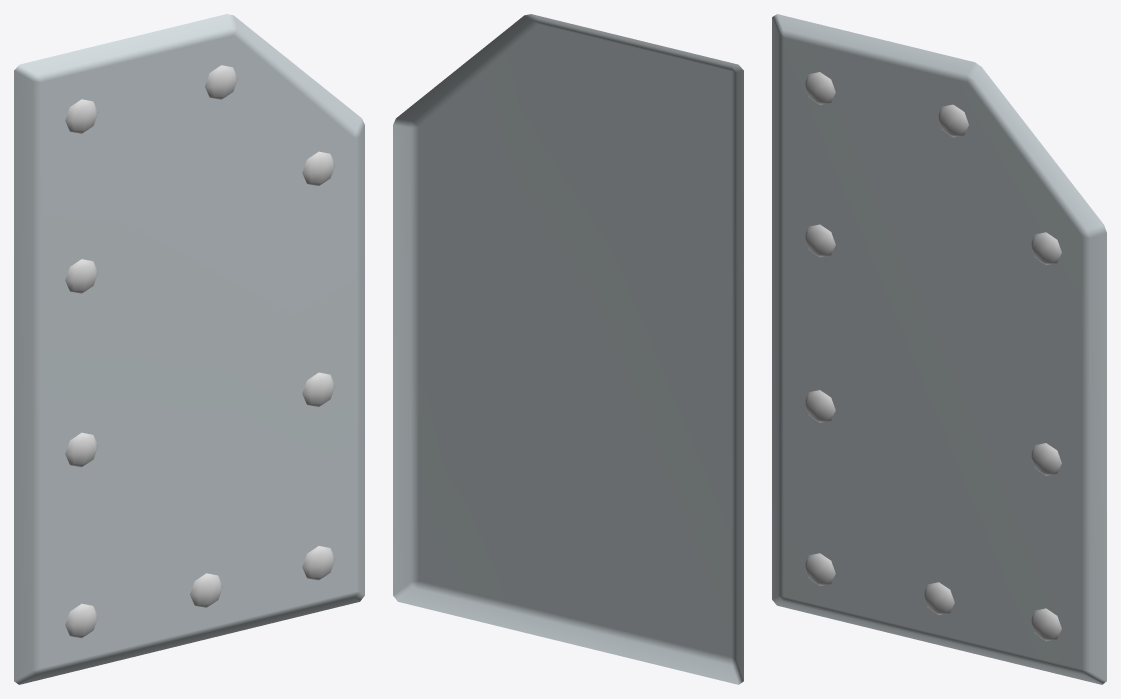
The model's file is wallplate_001.fbx.
3 views of the same model, side by side, from view 1: azimuth 30°, elevation 25°; view 2: azimuth 150°, elevation 25°; view 3: azimuth 330°, elevation 25° (orthographic). The views are drawn at different scales.
Parts seen in each view (by area): view 1: wallplate_001; view 2: wallplate_001; view 3: wallplate_001.
Boxes of the visible parts, x1=… form: wallplate_001: x1=14, y1=14, x2=364, y2=684; wallplate_001: x1=393, y1=14, x2=743, y2=684; wallplate_001: x1=772, y1=14, x2=1106, y2=684.
Bounding box in the file's own units: 1363 × 86.99 × 2302.
